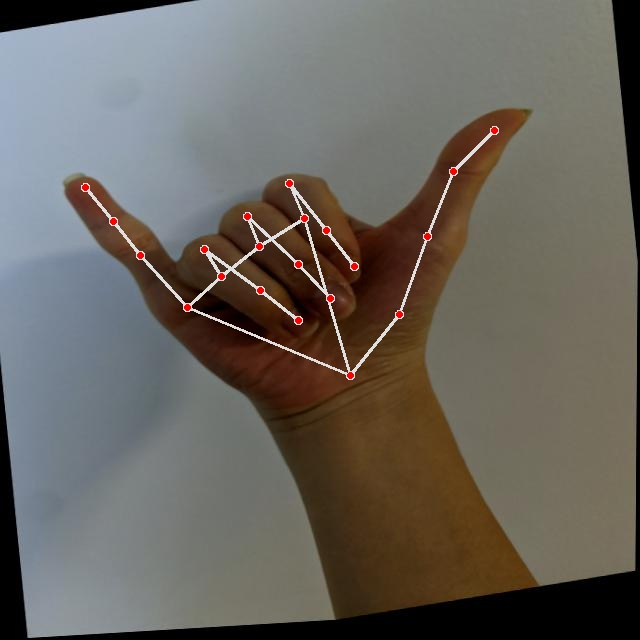Y: (51, 99, 565, 452)
